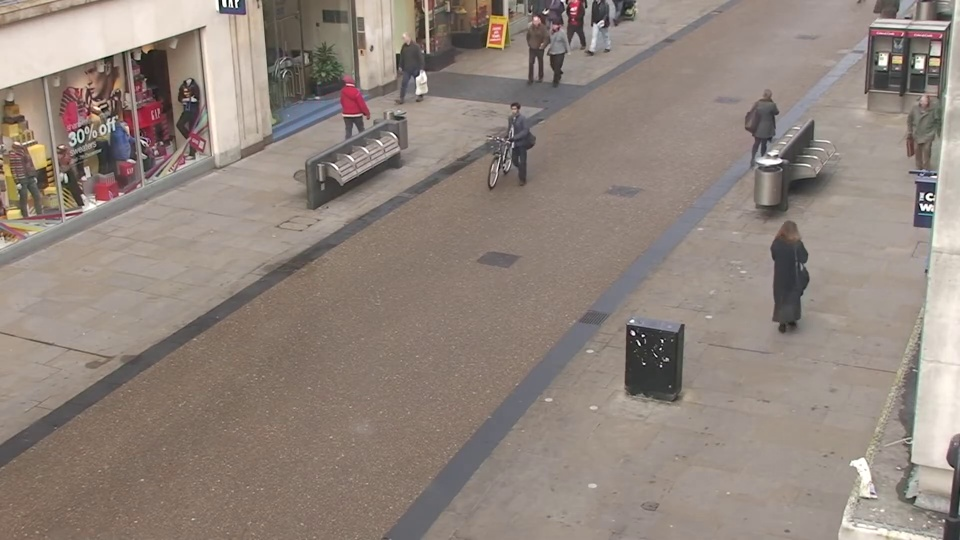pedestrian: (767, 213, 811, 334), (898, 94, 942, 188), (497, 101, 528, 193), (750, 84, 782, 171), (344, 70, 374, 152), (387, 33, 413, 105), (542, 19, 566, 88), (521, 16, 545, 84)
